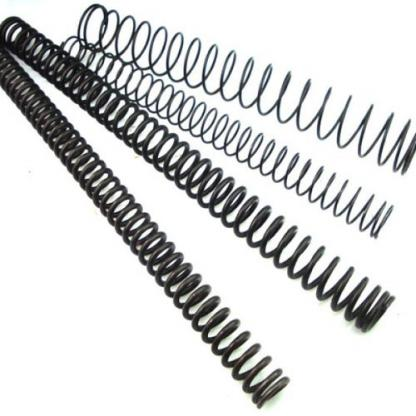FOD: (0, 13, 401, 338), (0, 44, 293, 410), (57, 32, 397, 243), (73, 0, 415, 179)
